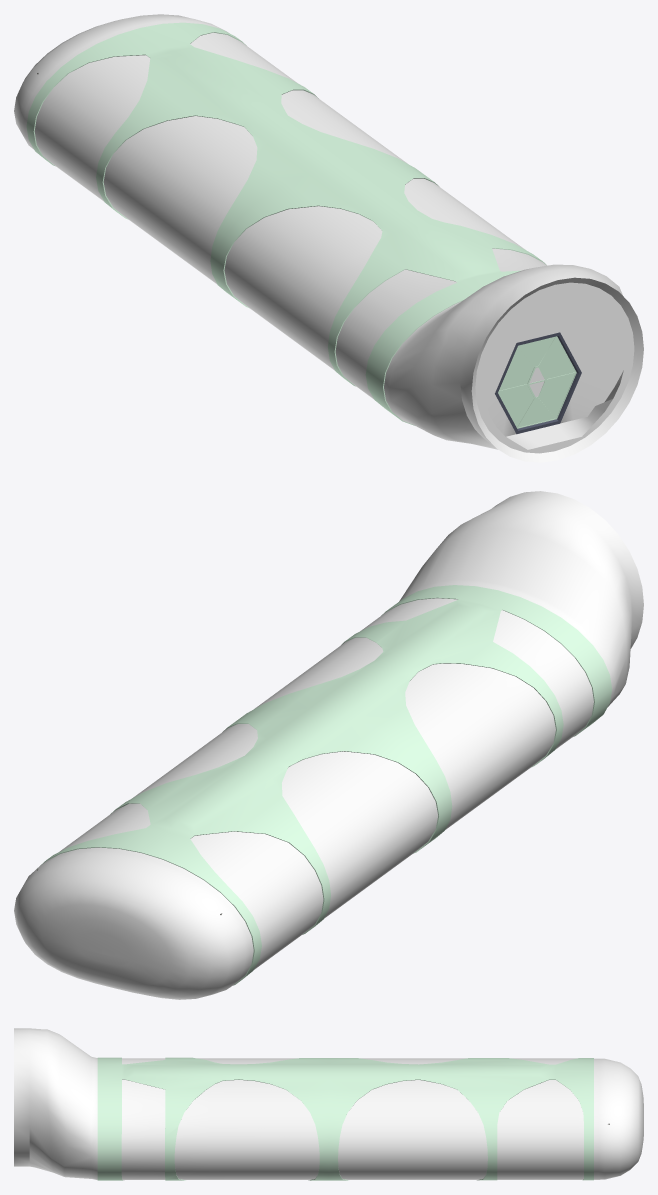
File: Ground_Passenger_Pod.glb
The picture shows the model from 3 angles, top to bottom: view 1: azimuth 30°, elevation 25°; view 2: azimuth 150°, elevation 25°; view 3: azimuth 270°, elevation 25°; orthographic projection. The views are drawn at different scales.
Parts seen in each view (by area): view 1: Ground_Passenger_Pod_LOD0, PassengerPod_Hatch_LOD0; view 2: Ground_Passenger_Pod_LOD0; view 3: Ground_Passenger_Pod_LOD0.
Part boxes in pixels (x1,y1,x2,y2): Ground_Passenger_Pod_LOD0: (14, 14, 643, 462); PassengerPod_Hatch_LOD0: (498, 336, 576, 428); Ground_Passenger_Pod_LOD0: (14, 491, 643, 999); Ground_Passenger_Pod_LOD0: (14, 1028, 643, 1180).
Size of what is drawn, in the model's own units: 5.36 by 4.06 by 18.44.
